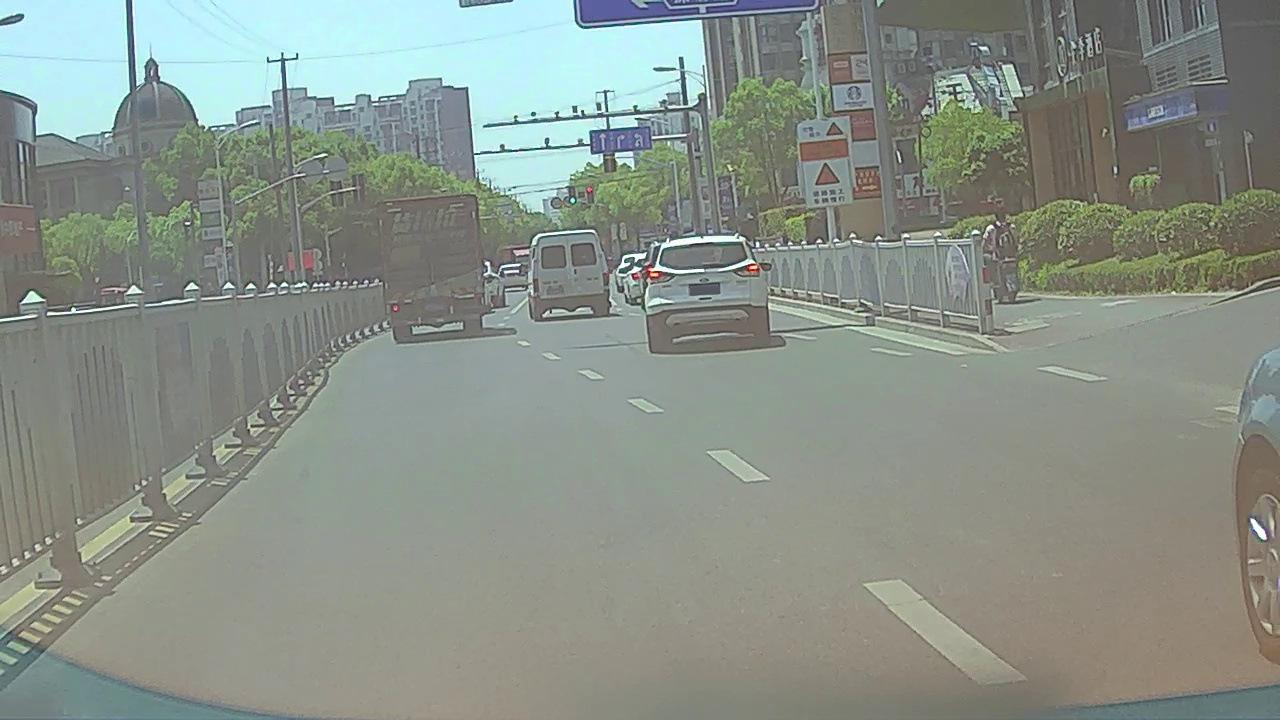traffic_light: (586, 186, 594, 204), (569, 186, 576, 205)
